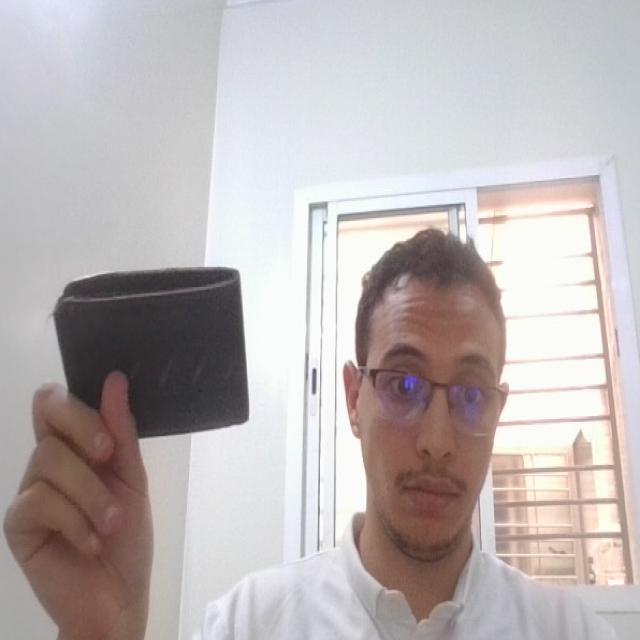wallet: (51, 260, 264, 451)
